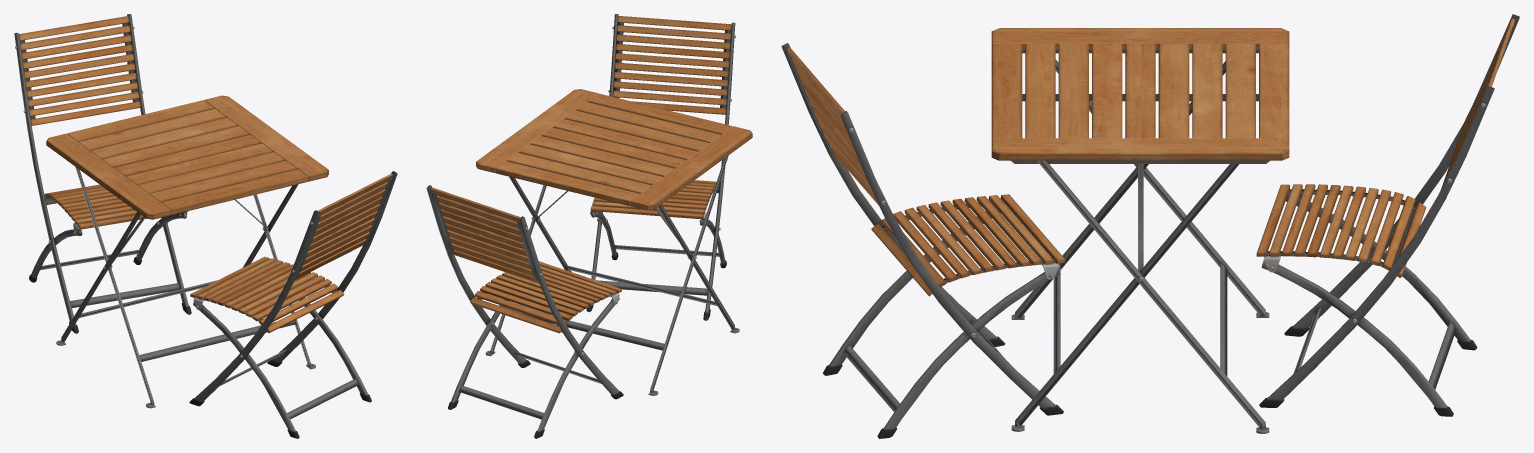
The model's file is outdoor_table_chair_set_01.glb.
The picture shows the model from 3 angles, left to right: view 1: azimuth 30°, elevation 25°; view 2: azimuth 150°, elevation 25°; view 3: azimuth 270°, elevation 25°; orthographic projection. The views are drawn at different scales.
Visible parts, largest first — view 1: outdoor_table_chair_set_01_chair_01, outdoor_table_chair_set_01_table; view 2: outdoor_table_chair_set_01_chair_01, outdoor_table_chair_set_01_table; view 3: outdoor_table_chair_set_01_table, outdoor_table_chair_set_01_chair_01.
Boxes of the visible parts, x1,y1,x2,y2 form: outdoor_table_chair_set_01_chair_01: (14,14,397,438); outdoor_table_chair_set_01_table: (46,95,328,408); outdoor_table_chair_set_01_chair_01: (426,14,735,438); outdoor_table_chair_set_01_table: (476,89,752,395); outdoor_table_chair_set_01_table: (991,28,1289,433); outdoor_table_chair_set_01_chair_01: (781,14,1519,438).
Size of the model in its own units: 0.7417 by 0.8576 by 1.72.
2 materials, 2 textured.
